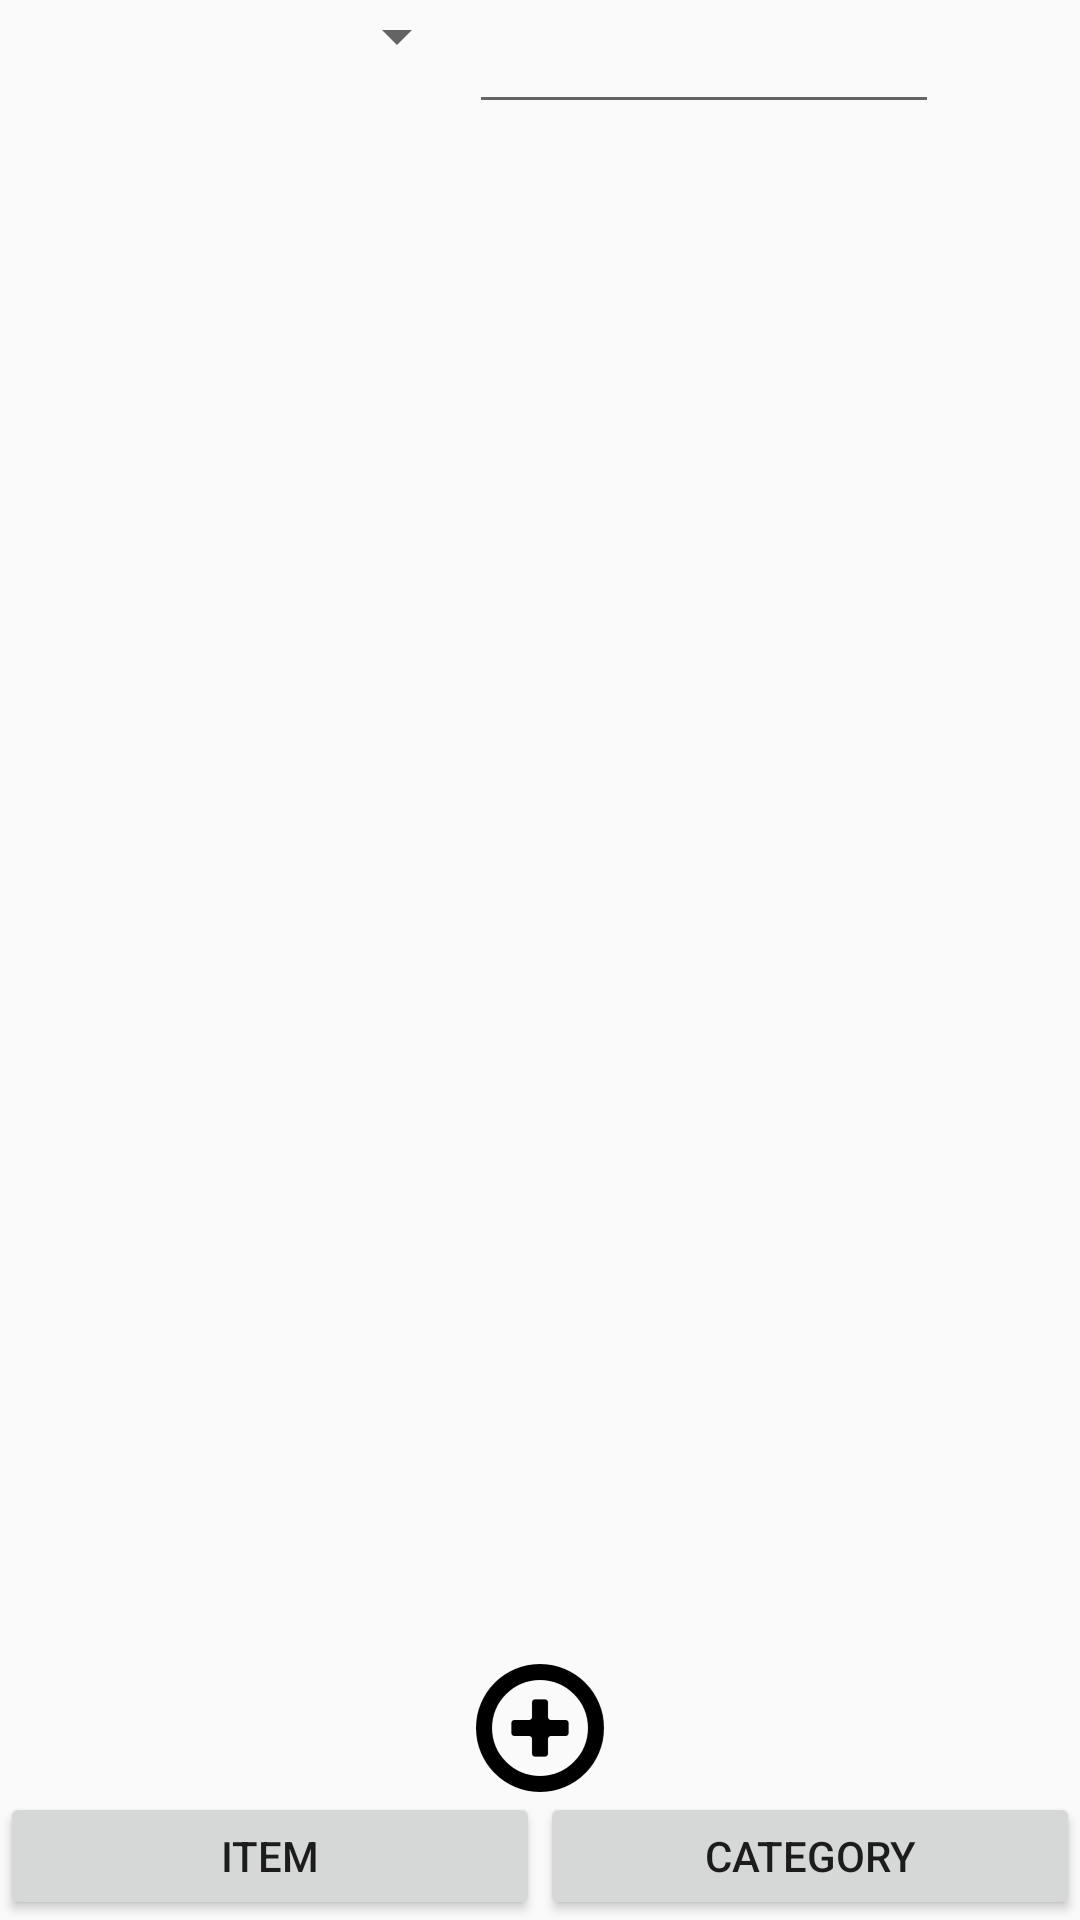

Screen size 1080×1920. Icon name, then its center in pixels as (x,y):
add: (540,1728)
